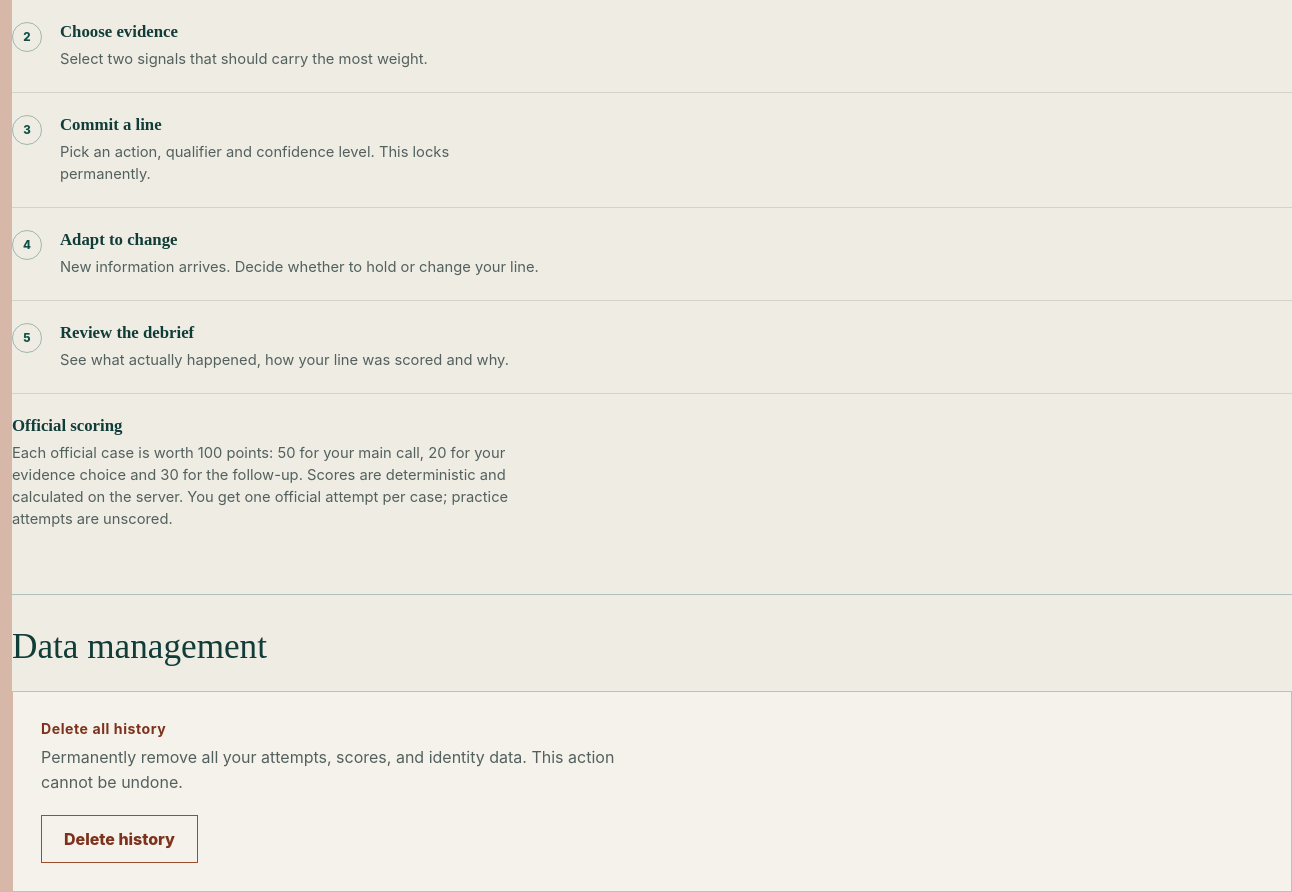
Test: SettingsPage › cancels the deletion flow and returns to idle
The width and height of the screenshot is (1292, 892).
(page scrolled)
What coordinates should you click on to do the following:
click the button "Delete history"
I would click on:
 (120, 839)
Its box is [41,815,198,863].
(page scrolled)
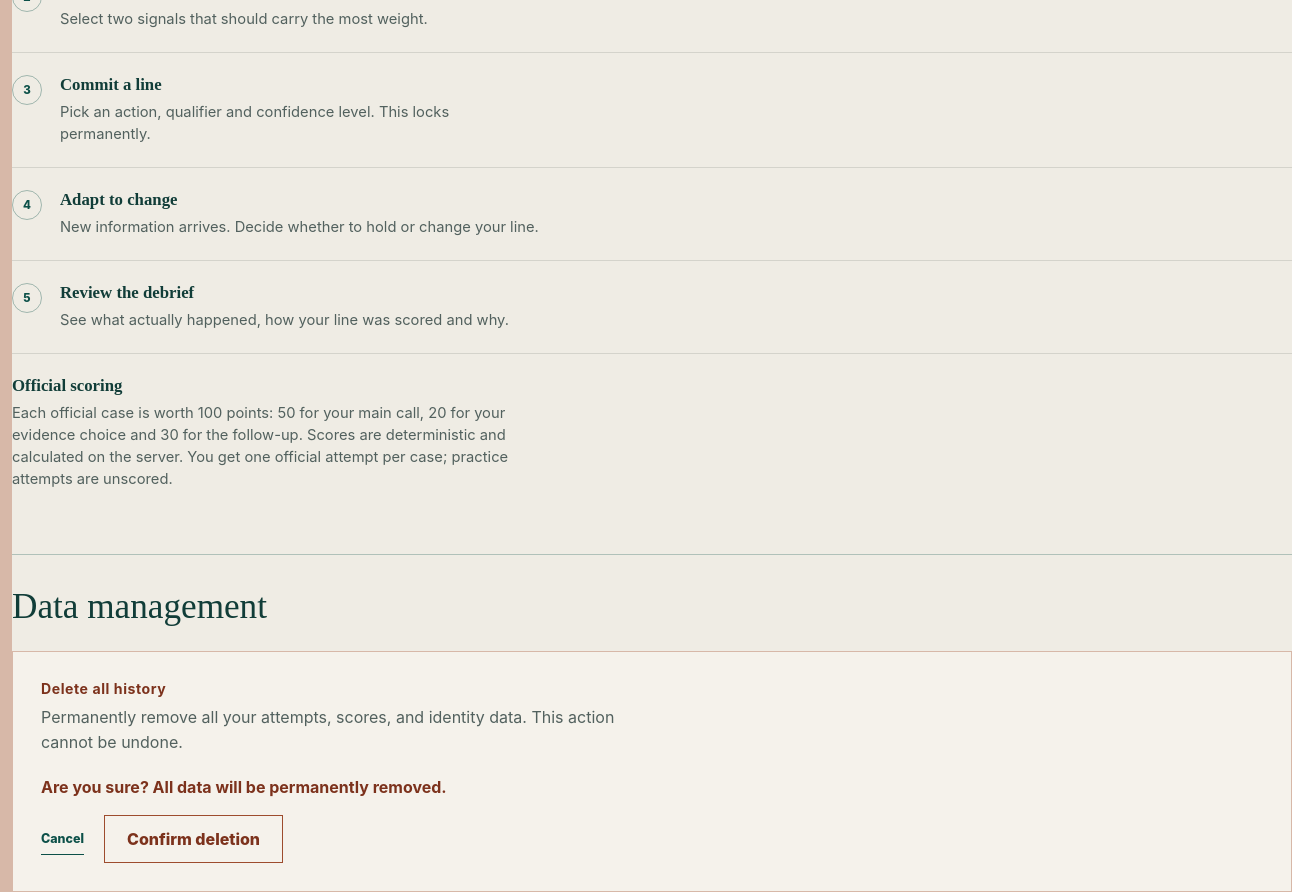
What coordinates should you click on to do the following:
click the button "Cancel"
I would click on:
 (62, 839)
Its box is [41,823,84,855].
(page scrolled)
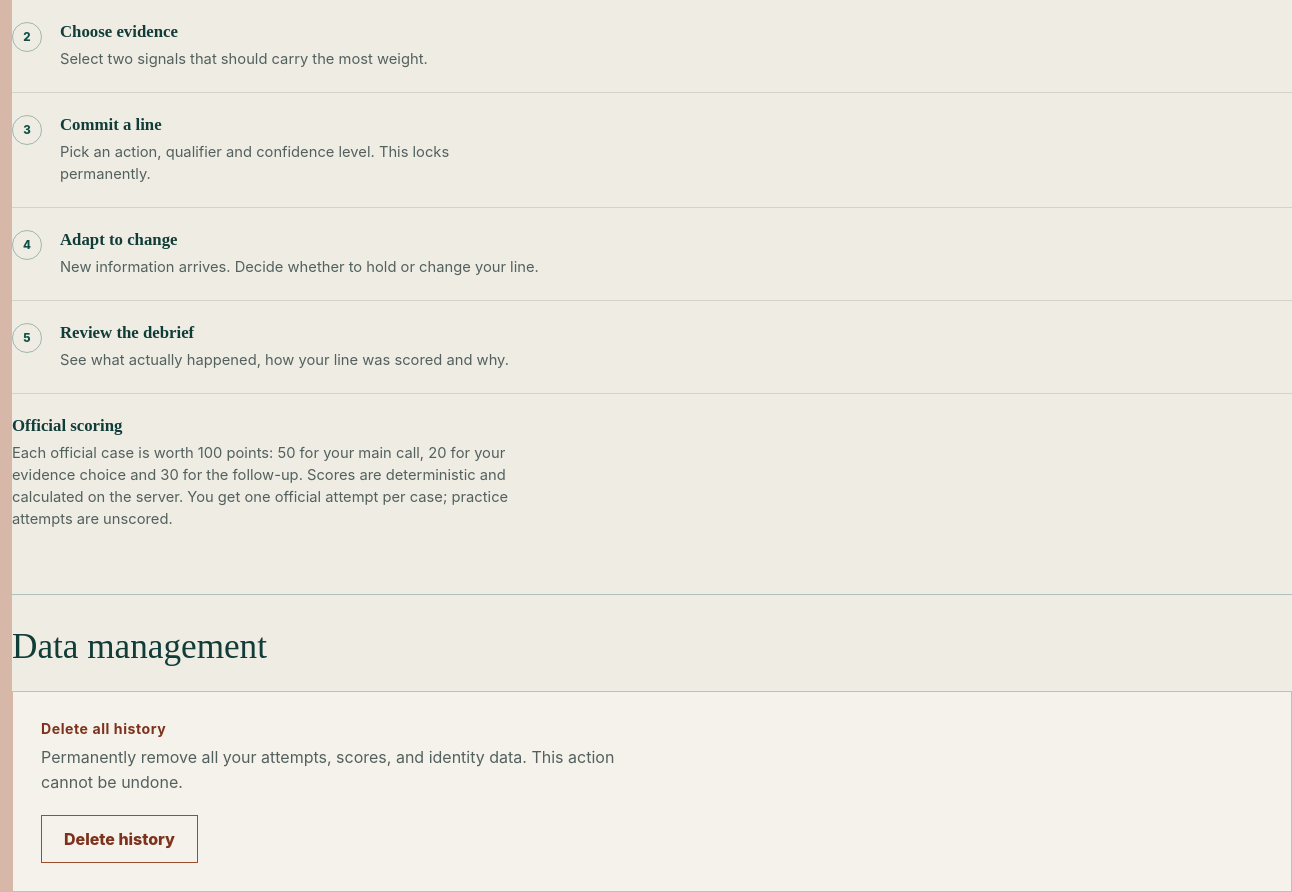
expect the button "Delete history" is shown: met, box [41,815,198,863]
expect the text "Are you sure?" is gone: met
